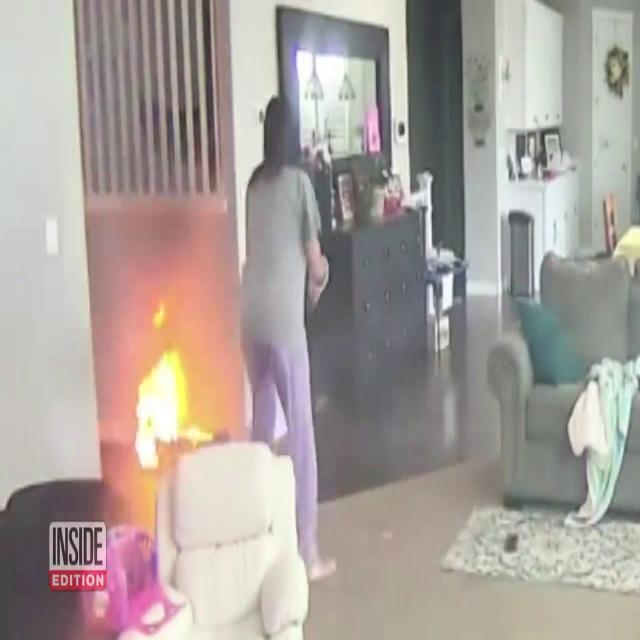Fire: (126, 322, 196, 474)
Smoke: (93, 180, 269, 398)
